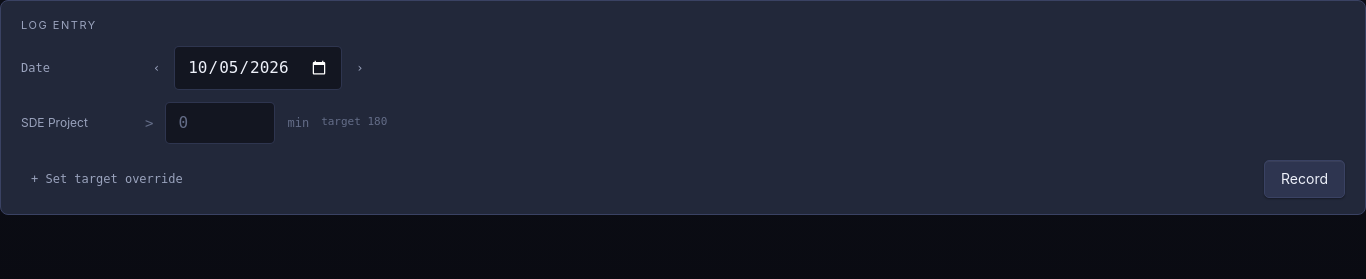
Test case: LogEntryForm › will not drop typed numbers when the date changes
The image size is (1366, 279).
Type "90" into the number field named "SDE Project minutes".
click(220, 122); type("90")  # box 165,102 -> 275,144
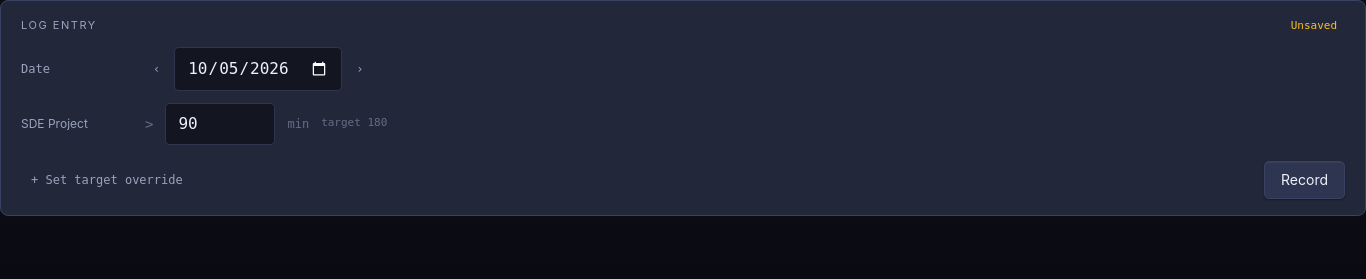
Expected: the text "Unsaved" is shown, 1291,19 -> 1337,32
Click the button named "Previous day".
click(157, 68)  # box 145,56 -> 168,80
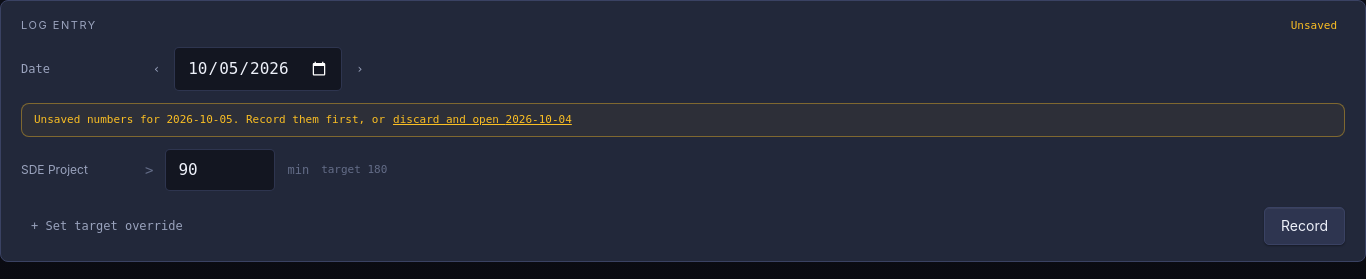
Expected: the text "Unsaved numbers for 2026-10-05" is shown, 21,102 -> 1345,137
